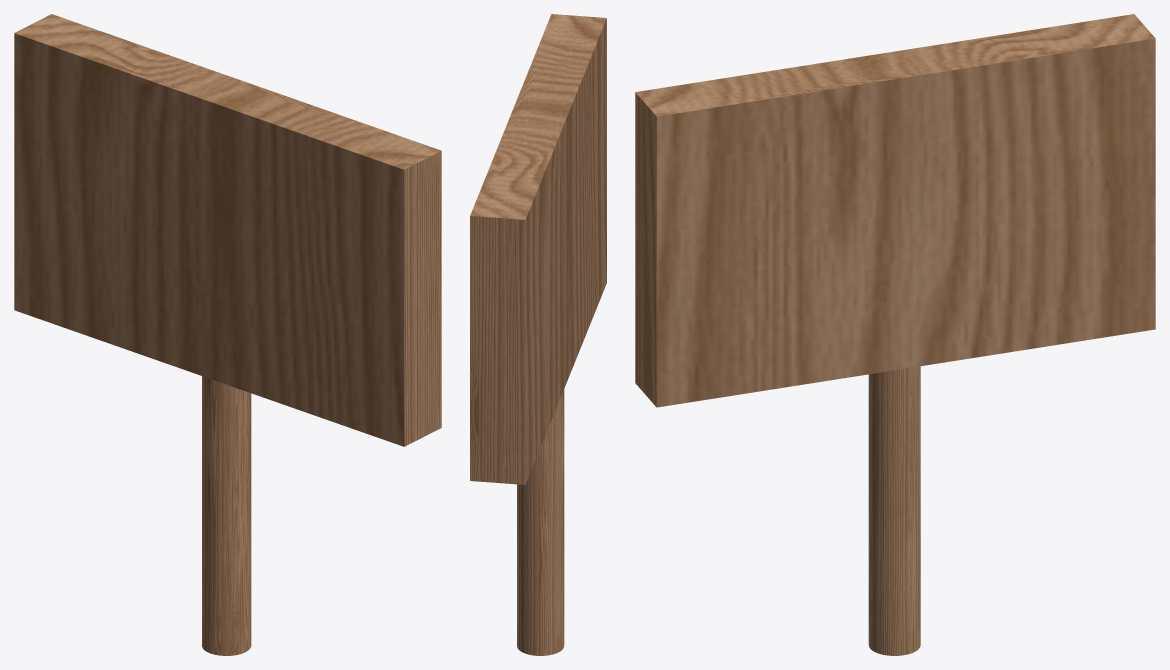
The model's file is sign.glb.
3 views of the same model, side by side, from view 1: azimuth 30°, elevation 25°; view 2: azimuth 150°, elevation 25°; view 3: azimuth 270°, elevation 25° (orthographic). The views are drawn at different scales.
Visible parts, largest first — view 1: Cylinder.007; view 2: Cylinder.007; view 3: Cylinder.007.
Part boxes in pixels (x1,y1,x2,y2): Cylinder.007: (14,14,441,655); Cylinder.007: (470,14,606,655); Cylinder.007: (635,14,1155,655).
Size of the model in its own units: 9.77 by 25.78 by 20.94.
1 material, 1 textured.
